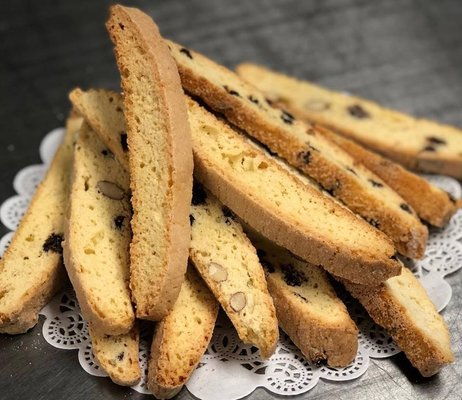soup: (0, 4, 198, 381)
